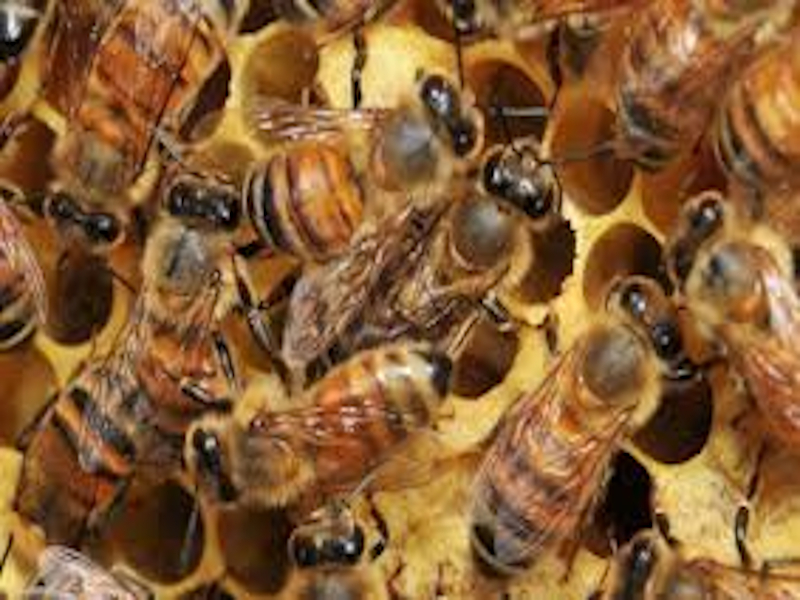abeja: (464, 257, 724, 597), (91, 145, 285, 445), (31, 1, 245, 265), (167, 340, 460, 530), (339, 135, 579, 358), (261, 50, 478, 251)
